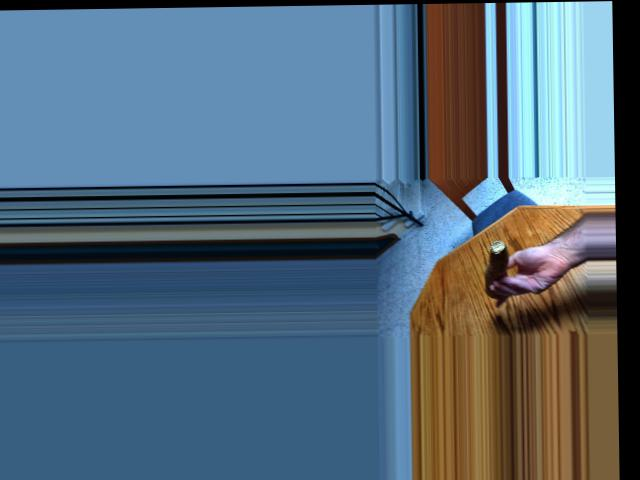sweet_potato: (484, 250, 511, 295)
